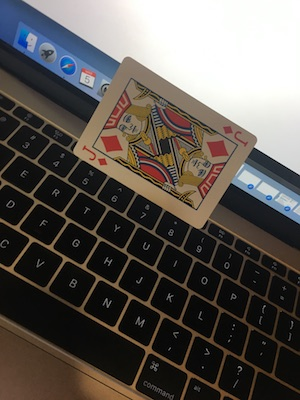JackOfDiamonds: (63, 51, 267, 233)
